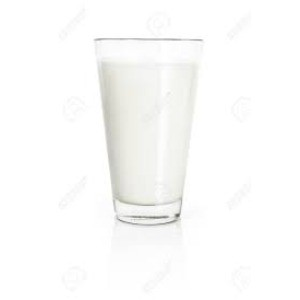milk_brain food: (99, 44, 201, 222)
